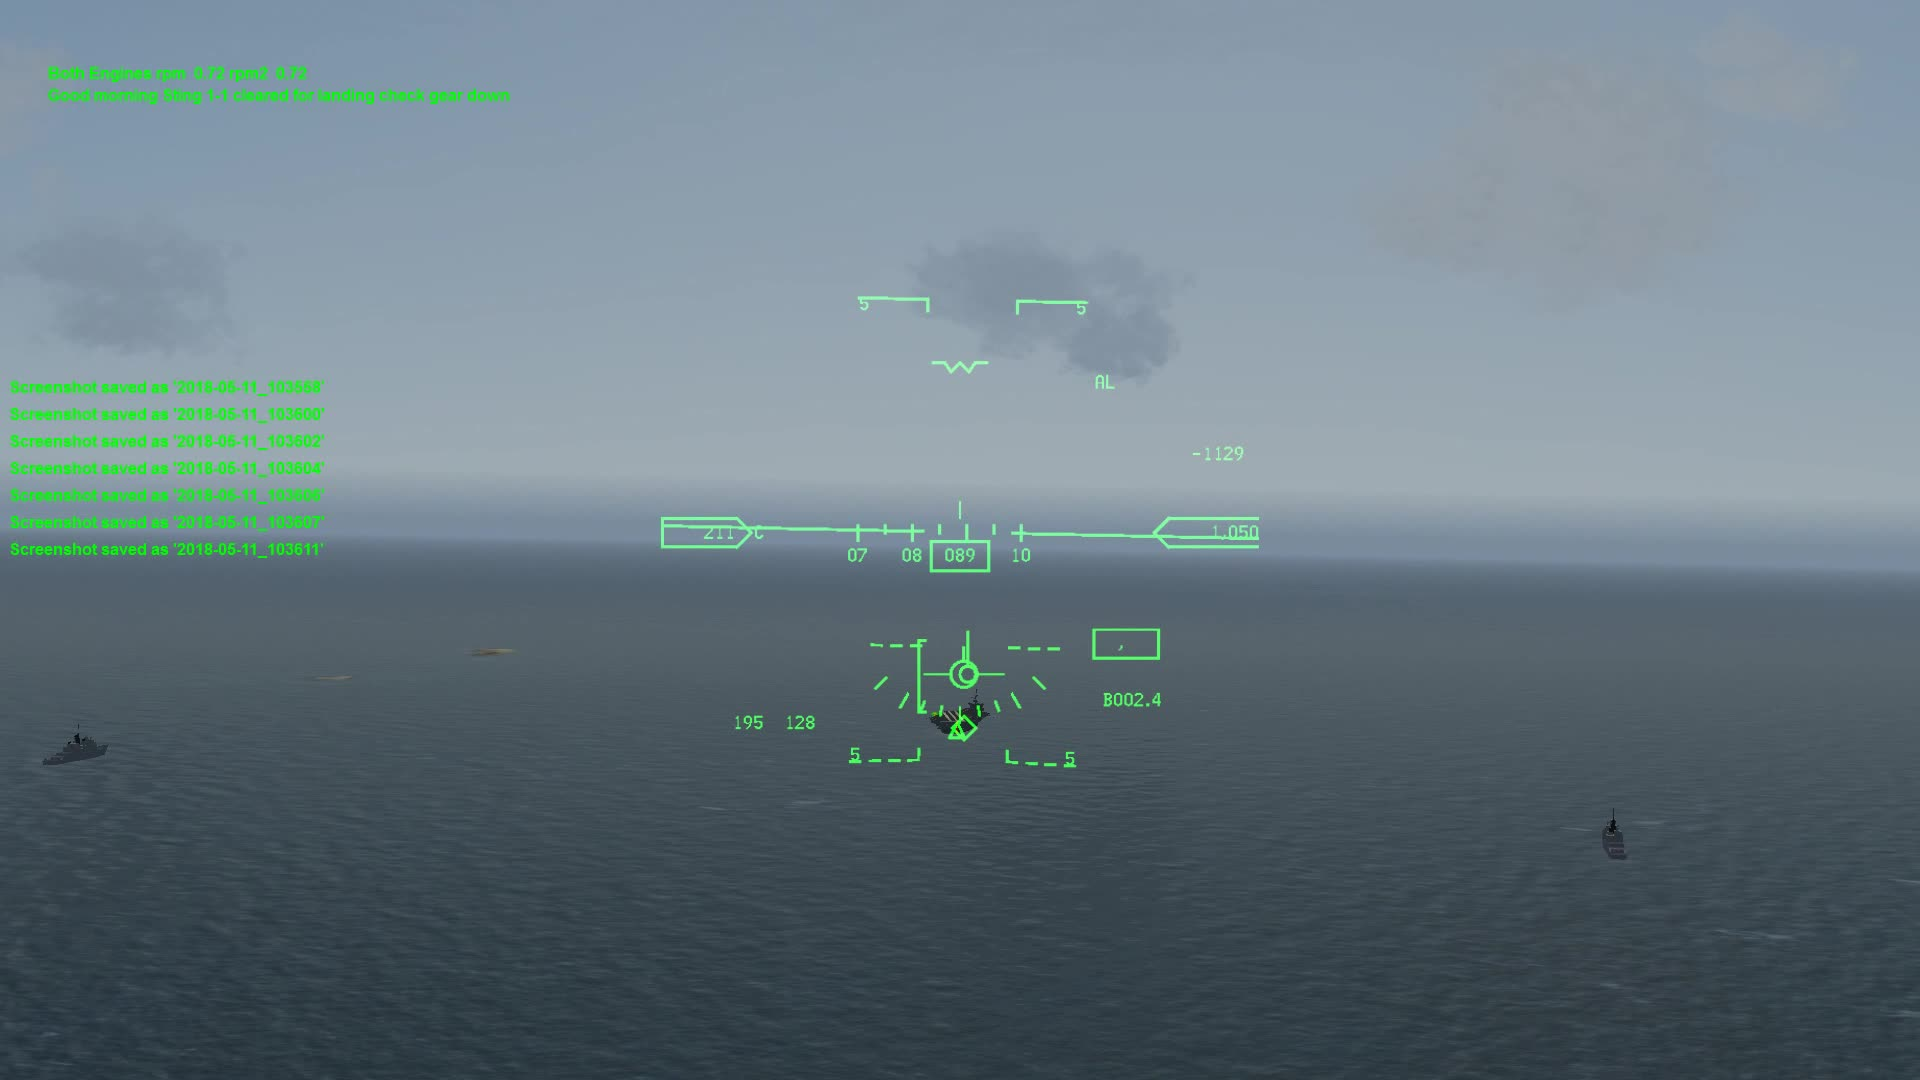speed vector: (923, 634, 1007, 691)
